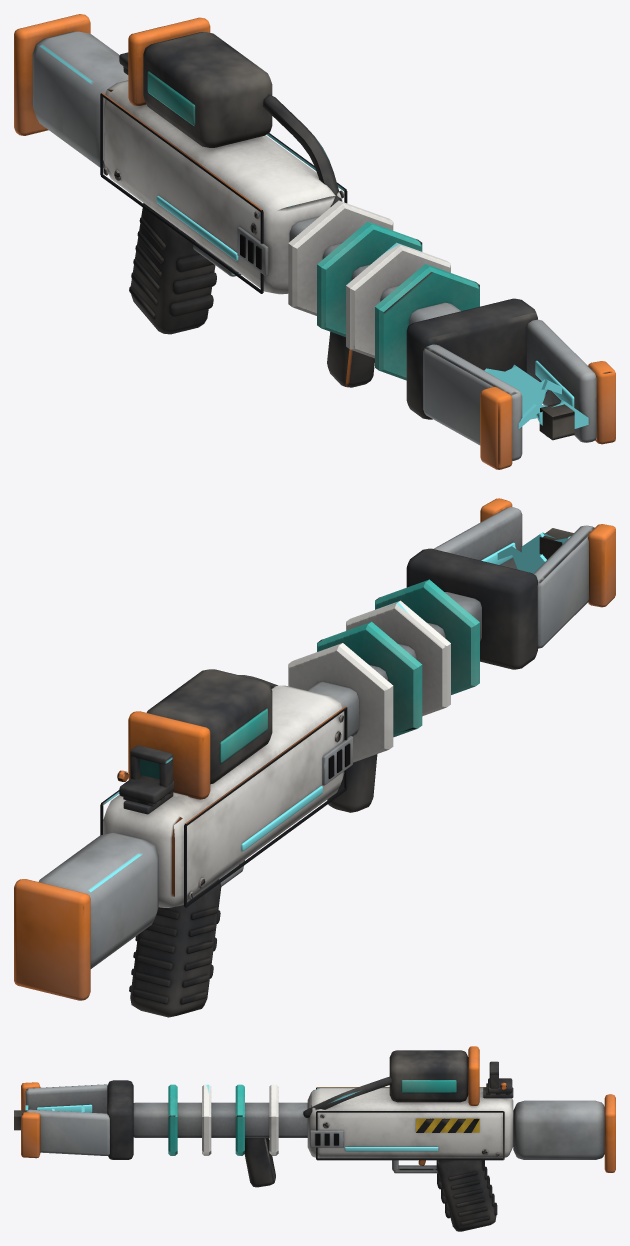
File: disruptor.fbx
3 views of the same model, one above another, from view 1: azimuth 30°, elevation 25°; view 2: azimuth 150°, elevation 25°; view 3: azimuth 270°, elevation 25° (orthographic). The views are drawn at different scales.
Visible parts, largest first — view 1: Handle, Mag, Glow, Muzzle; view 2: Handle, Mag, Glow; view 3: Handle, Mag, Glow.
Boxes of the visible parts, <box> form: Handle: <box>14,14,615,469</box>; Mag: <box>128,17,272,147</box>; Glow: <box>156,195,588,436</box>; Muzzle: <box>539,403,574,440</box>; Handle: <box>14,498,615,1017</box>; Mag: <box>128,669,272,799</box>; Glow: <box>241,532,570,851</box>; Handle: <box>21,1061,615,1231</box>; Mag: <box>389,1046,479,1105</box>; Glow: <box>25,1104,438,1151</box>.
Size of the model in its own units: 0.453 by 1.01 by 3.22.
Materials: 1 (1 with a texture image).
